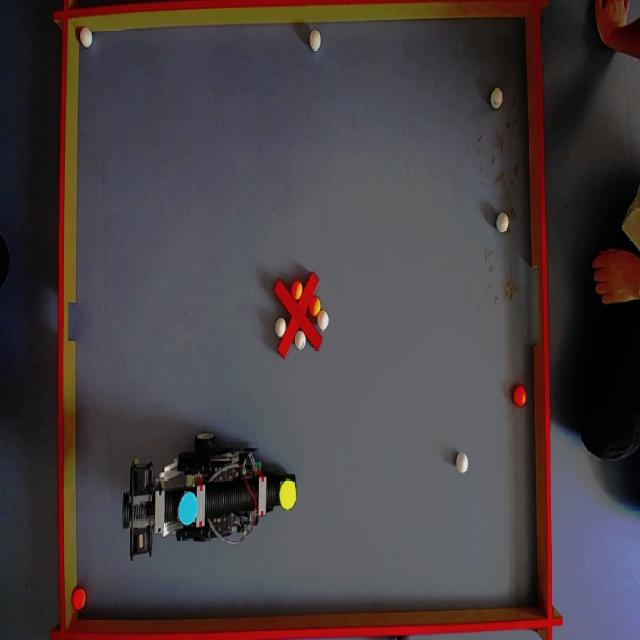orange: (72, 585, 85, 611), (515, 386, 528, 406), (309, 295, 320, 316), (293, 285, 302, 301)
robot: (116, 438, 304, 559)
robot-front: (279, 478, 298, 510)
robot-rear: (178, 492, 200, 524)
white: (491, 86, 505, 108), (308, 30, 322, 51), (459, 456, 472, 476), (81, 27, 93, 48), (498, 215, 510, 235), (295, 332, 306, 351), (275, 319, 285, 338), (317, 312, 328, 329)
